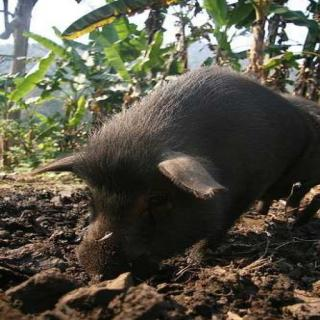Pig: (54, 82, 320, 271)
